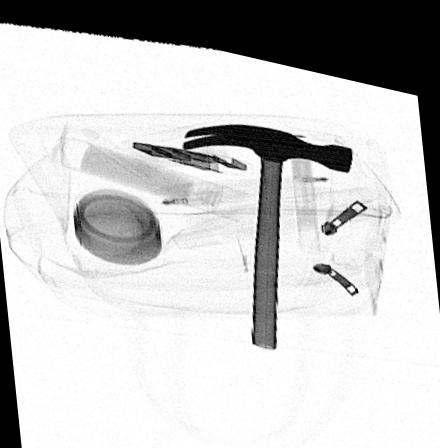Hammer: (183, 113, 353, 336)
